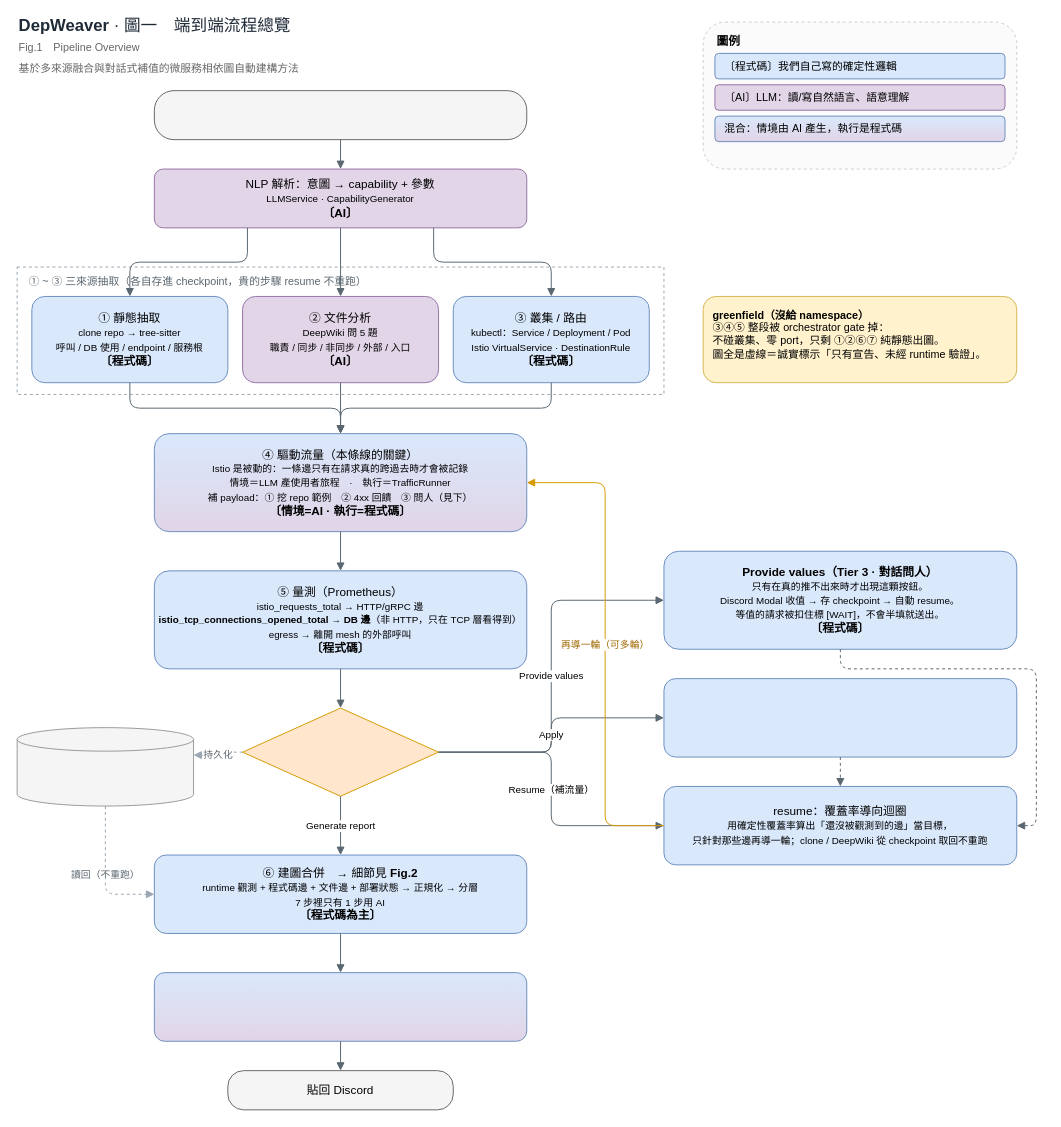
The diagram is 1061 pixels wide and 1127 high, and some of its shapes have lost their labels. The shapes that lost their labels are listed below. From the top down, each one's centre as x and y in pixels, then its label:
At (340,115): "使用者在 Discord 下指令 get dependency analysis · repo / namespace / entry_url".
At (840,717): "Apply ServiceEntries kubectl apply（唯一會改叢集的動作，只在點擊後執行） 之後 egress 邊才可被歸因 〔程式碼〕".
At (105,766): "dep-state checkpoint host volume，重啟不丟".
At (340,751): "checkpoint 暫停，貼按鈕".
At (340,1006): "⑦ 產出 分層依賴圖（PNG / .mmd）＋ 覆蓋率 〔程式碼〕 文字報告 〔AI〕".
